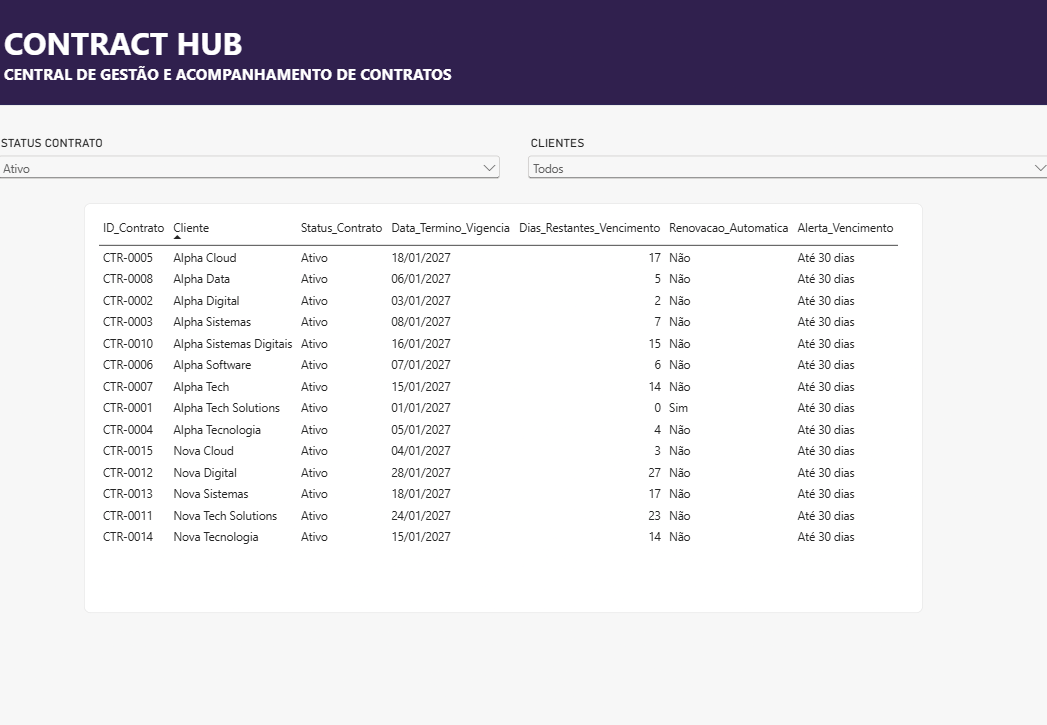

This screenshot's page, from the dashboard's own definition file:
{"tool":"powerbi","page":{"name":"ACOMPANHAMENTO CONTRATUAL","canvas":[1280,900],"ordinal":0},"visuals":[{"type":"donutChart","fields":{"Category":["contratos_dashboard.Renovacao_Automatica"],"Y":["contratos_dashboard.Total_Contratos"]},"box":[1318.4,0,602.4,538],"z":0},{"type":"tableEx","fields":{"Values":["contratos_dashboard.ID_Contrato","contratos_dashboard.Cliente","contratos_dashboard.Status_Contrato","contratos_dashboard.Data_Termino_Vigencia","contratos_dashboard.Dias_Restantes_Vencimento","contratos_dashboard.Renovacao_Automatica","contratos_dashboard.Alerta_Vencimento"]},"box":[108.6,254.9,1011.9,494.6],"z":1000},{"type":"slicer","fields":{"Values":["contratos_dashboard.Cliente"]},"box":[1516.4,541.8,404,134],"z":2000},{"type":"slicer","fields":{"Values":["contratos_dashboard.Status_Contrato"]},"box":[1516.4,696.9,404,149.3],"z":3000},{"type":"slicer","fields":{"Values":["contratos_dashboard.Cliente"]},"box":[639.4,173.4,640.9,66.4],"z":4000},{"type":"slicer","fields":{"Values":["contratos_dashboard.Status_Contrato"]},"box":[0,173.4,615.3,66.4],"z":5000},{"type":"shape","box":[0,0,1280.3,137.2],"z":6000},{"type":"textbox","box":[12.1,36.2,559.5,137.2],"z":6002}]}

Visuals, with their boxes in screenshot pixels (x1, y1, x2, y2), scaled from the page's 1280x900 canvas onto the 1047x725 screenshot:
tableEx - contratos_dashboard.ID_Contrato x contratos_dashboard.Cliente: [89,205,917,604]
slicer - contratos_dashboard.Cliente: [523,140,1046,193]
slicer - contratos_dashboard.Status_Contrato: [0,140,503,193]
shape: [0,0,1046,111]
textbox: [10,29,468,140]
